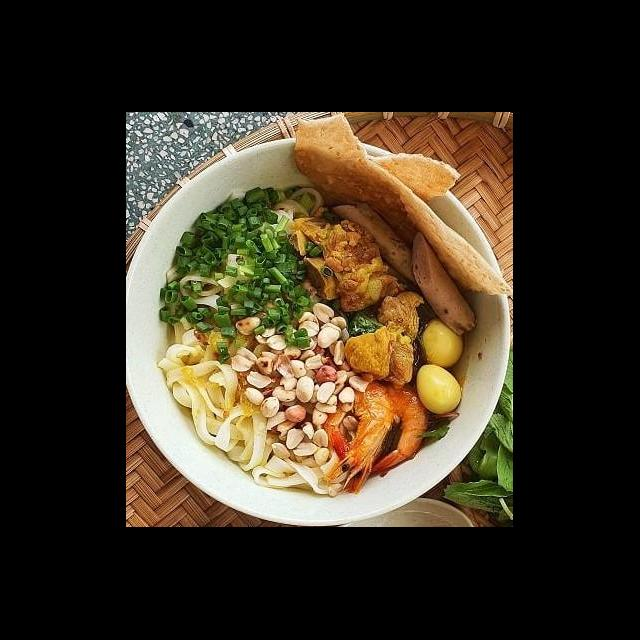banh da: (291, 114, 514, 300), (362, 150, 462, 214)
mi: (154, 314, 348, 500), (164, 252, 260, 320), (223, 184, 324, 242)
thit heo: (284, 214, 412, 316), (342, 288, 428, 392)
tom: (318, 374, 397, 496), (348, 376, 428, 480)
trung: (414, 362, 464, 418), (418, 316, 464, 368)
